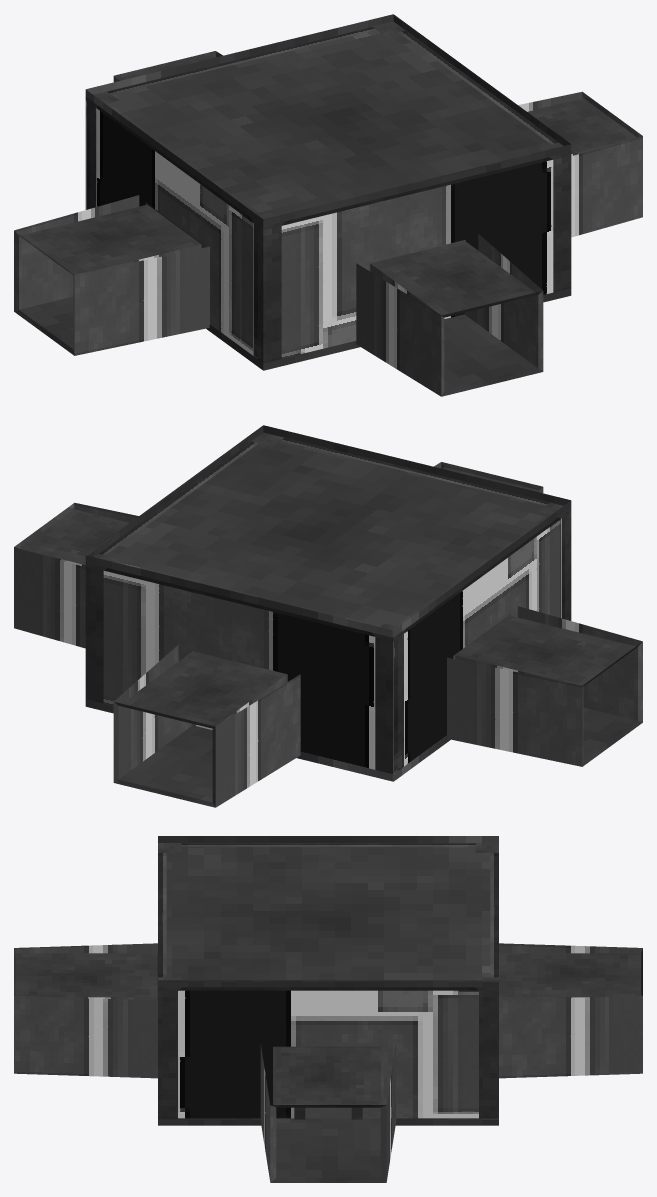
The model's file is Room_Exit_2.fbx.
3 renders of one model, top to bottom at view 1: azimuth 30°, elevation 25°; view 2: azimuth 150°, elevation 25°; view 3: azimuth 270°, elevation 25°, orthographic. The views are drawn at different scales.
Visible parts, largest first — view 1: Room_Exit_2_V5; view 2: Room_Exit_2_V5; view 3: Room_Exit_2_V5.
Boxes of the visible parts, x1,y1,x2,y2 form: Room_Exit_2_V5: (14, 14, 642, 396); Room_Exit_2_V5: (14, 425, 642, 807); Room_Exit_2_V5: (14, 836, 642, 1182).
Size of the model in its own units: 80.56 by 20.5 by 80.43.
